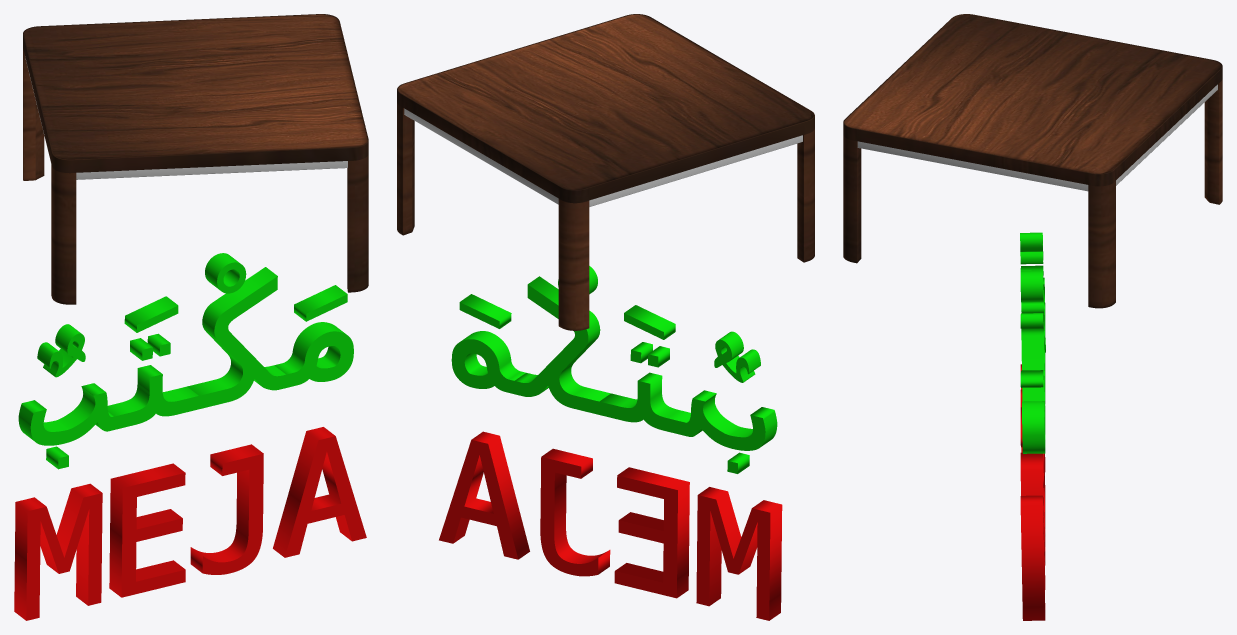
The model's file is table.fbx.
3 renders of one model, left to right at view 1: azimuth 30°, elevation 25°; view 2: azimuth 150°, elevation 25°; view 3: azimuth 270°, elevation 25°, orthographic. The views are drawn at different scales.
Visible parts, largest first — view 1: Cube, Text.005, Text, Cube.002, Text.004, Text.002, Text.003, Text.001; view 2: Cube, Text.005, Text, Cube.002, Text.004, Text.001, Text.003; view 3: Cube, Text.005, Text, Cube.002, Text.002, Text.004.
Boxes of the visible parts, bbox=[...] form: Cube: bbox=[23, 14, 368, 304]; Text.005: bbox=[14, 427, 366, 620]; Text: bbox=[18, 267, 353, 469]; Cube.002: bbox=[25, 56, 347, 179]; Text.004: bbox=[37, 324, 85, 377]; Text.002: bbox=[205, 253, 246, 293]; Text.003: bbox=[124, 296, 178, 332]; Text.001: bbox=[294, 285, 347, 321]; Cube: bbox=[397, 14, 814, 330]; Text.005: bbox=[439, 431, 782, 620]; Text: bbox=[451, 276, 777, 473]; Cube.002: bbox=[404, 108, 802, 206]; Text.004: bbox=[714, 331, 760, 382]; Text.001: bbox=[459, 294, 511, 328]; Text.003: bbox=[624, 305, 675, 339]; Cube: bbox=[843, 14, 1222, 308]; Text.005: bbox=[1020, 364, 1045, 620]; Text: bbox=[1020, 277, 1045, 453]; Cube.002: bbox=[857, 84, 1217, 191]; Text.002: bbox=[1020, 270, 1043, 302]; Text.004: bbox=[1020, 232, 1043, 264].
Bounding box in the file's own units: 337 × 445 × 337.
